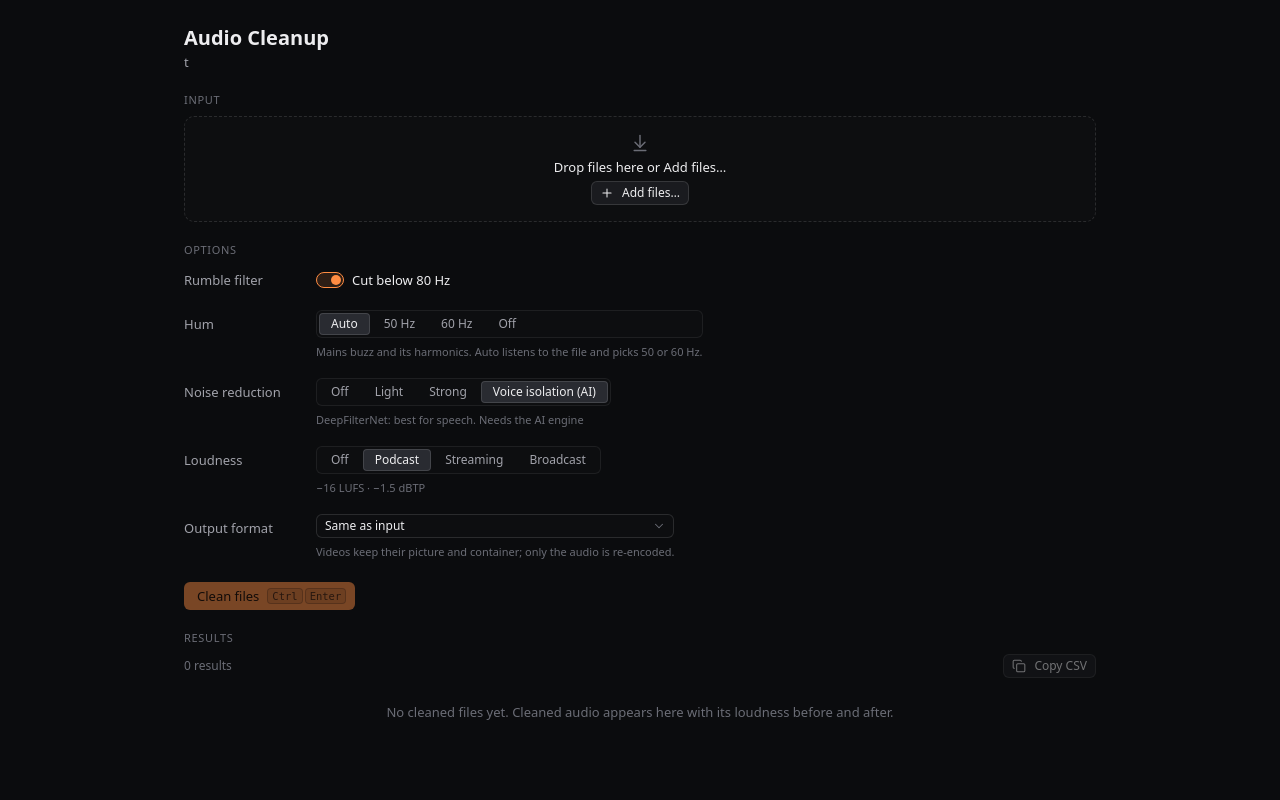
AudioCleanupView › hides the format picker when every input is a video
Click the button "Add files…" at x=640, y=193, box [591,181,689,205]
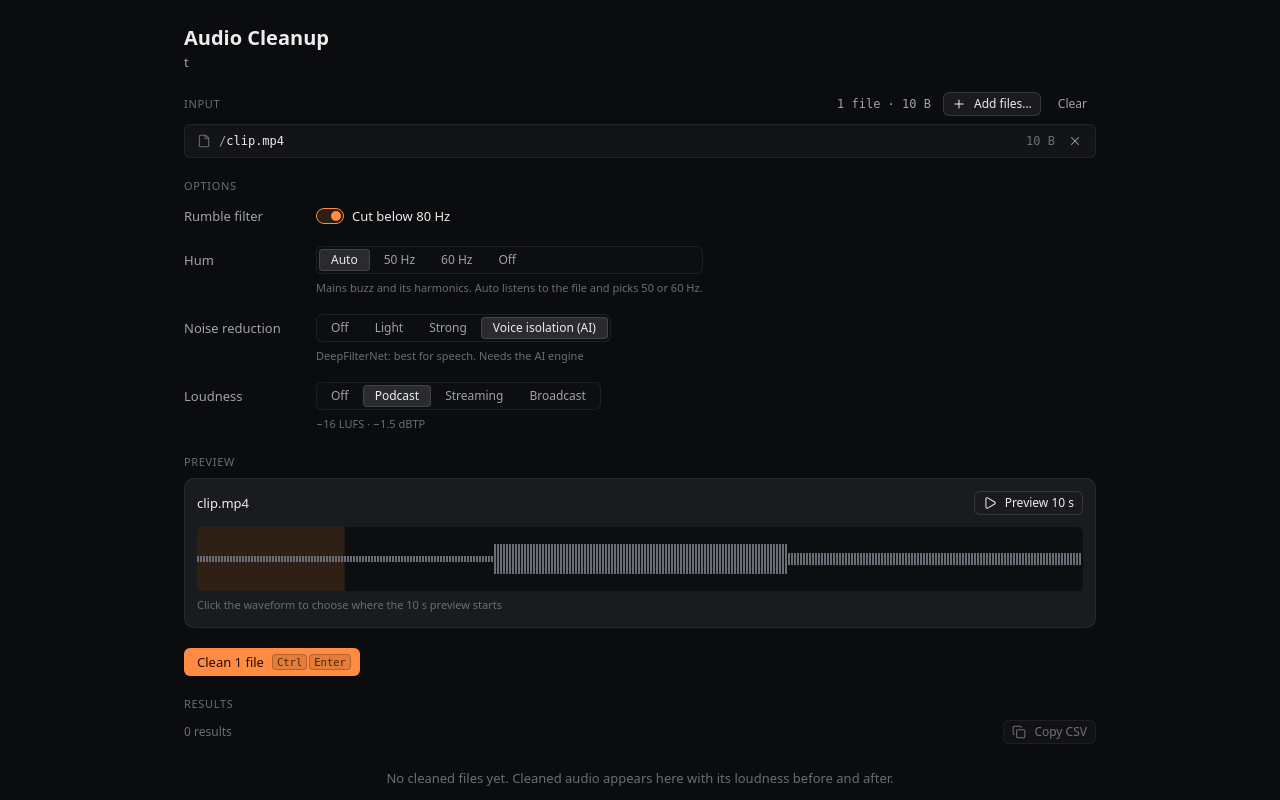
Result: the list named "Input files" is shown at [184,124,1096,158]
Result: the text labelled "Output format" is gone
